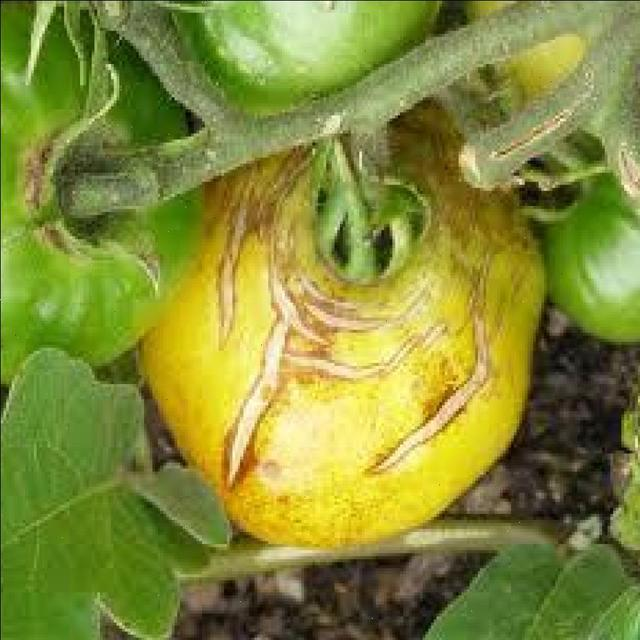Cracking Fruit: (62, 94, 296, 258)
